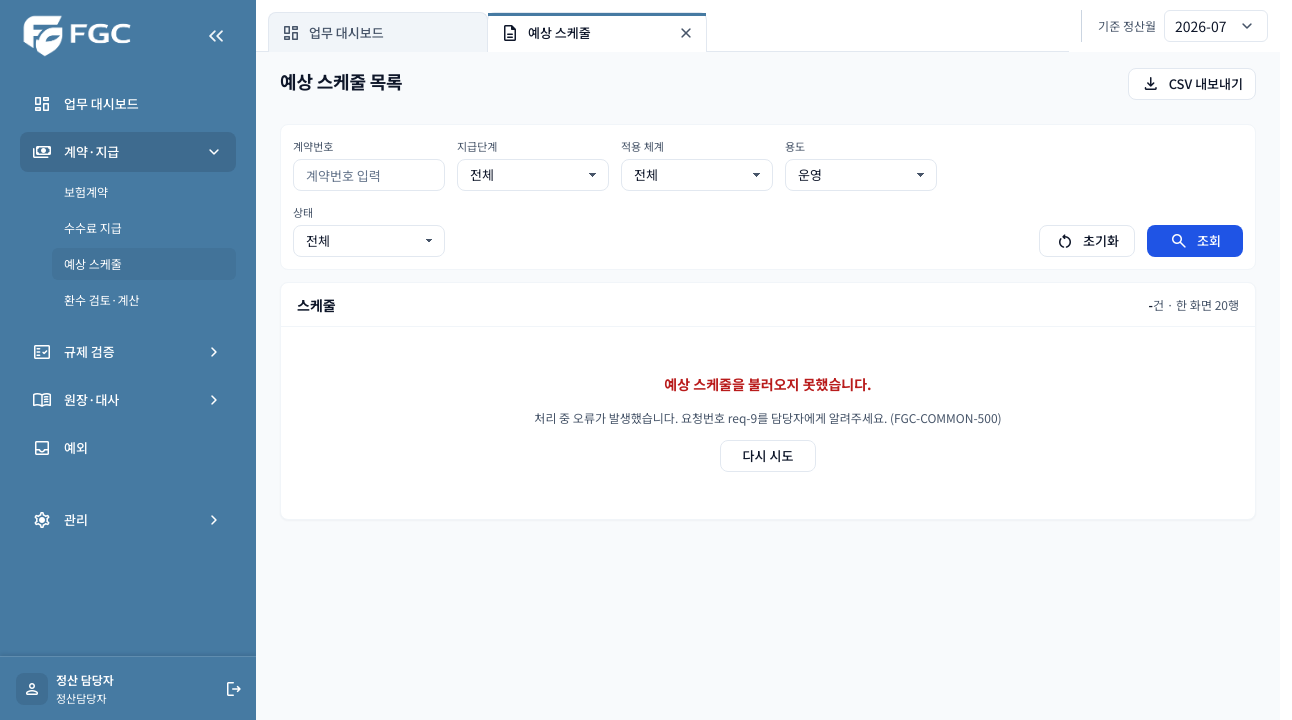
SCHE-W01 예상 스케줄 목록 › 빈 결과와 오류(500 은 서버 문구·요청 ID)를 구분하고 다시 시도한다
Expected: the text "예상 스케줄을 불러오지 못했습니다." is shown, [664,374,872,396]
Expected: the text "처리 중 오류가 발생했습니다. 요청번호 req-9를 담당자에게 알려주세요. (FGC-COMMON-500)" is shown, [534,408,1002,428]
Click the button "다시 시도": click(768, 456) [720,440,816,472]
(page scrolled)
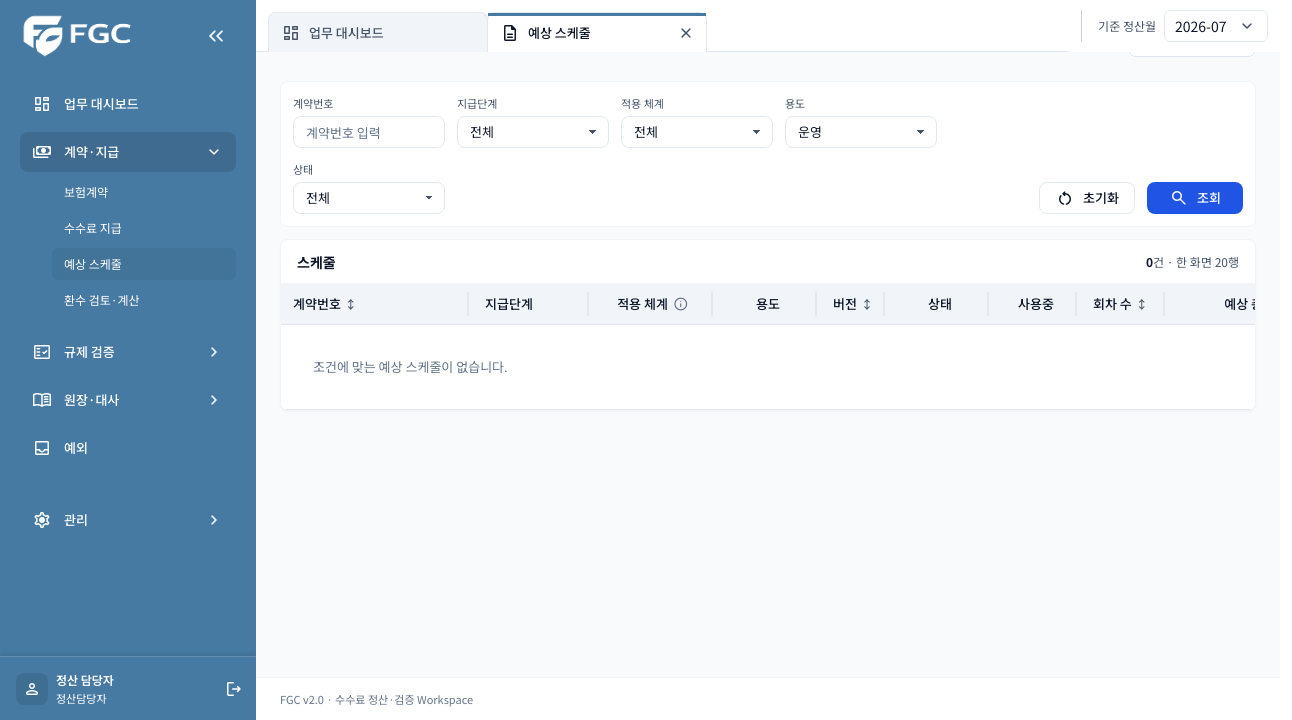
Now the text "조건에 맞는 예상 스케줄이 없습니다." is shown, box [281,324,1255,409]
